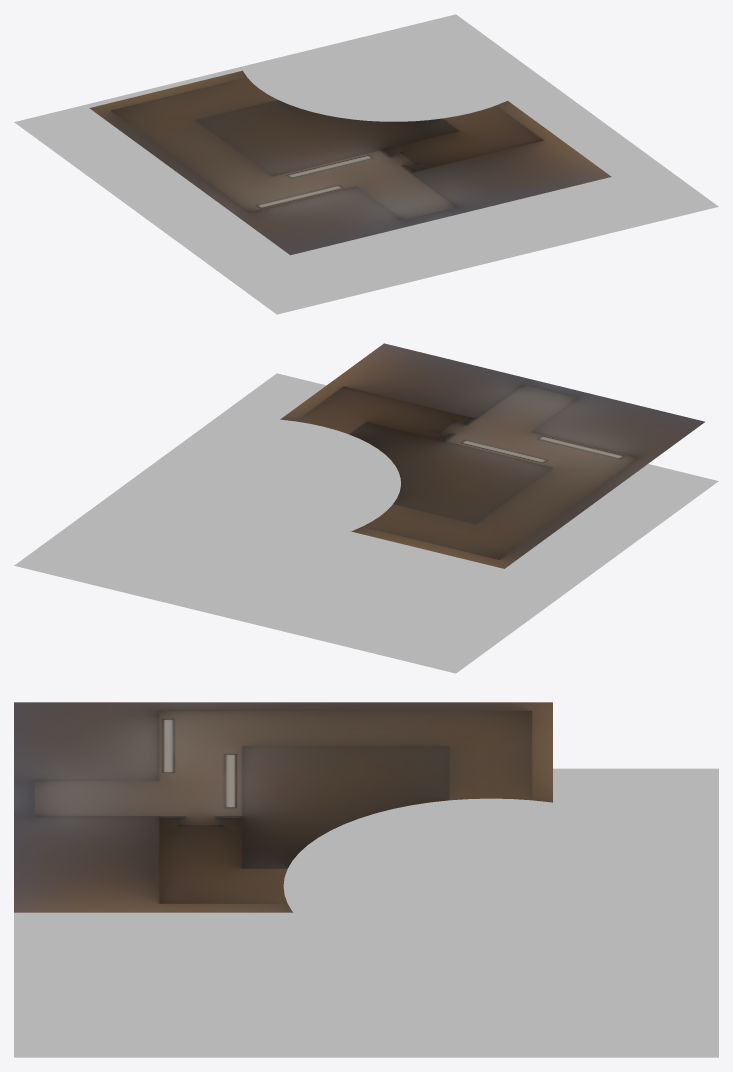
Rendered from floor and ceiling.gltf.
3 views of the same model, one above another, from view 1: azimuth 30°, elevation 25°; view 2: azimuth 150°, elevation 25°; view 3: azimuth 270°, elevation 25° (orthographic). The views are drawn at different scales.
Parts seen in each view (by area): view 1: floor, ceiling ver3; view 2: floor, ceiling ver3; view 3: floor, ceiling ver3.
Boxes of the visible parts, x1=… form: floor: x1=14, y1=14, x2=718, y2=314; ceiling ver3: x1=89, y1=70, x2=611, y2=255; floor: x1=14, y1=373, x2=718, y2=673; ceiling ver3: x1=280, y1=343, x2=705, y2=568; floor: x1=14, y1=768, x2=718, y2=1057; ceiling ver3: x1=14, y1=702, x2=552, y2=912.
Size of what is drawn, in the model's own units: 33 by 4 by 34.
